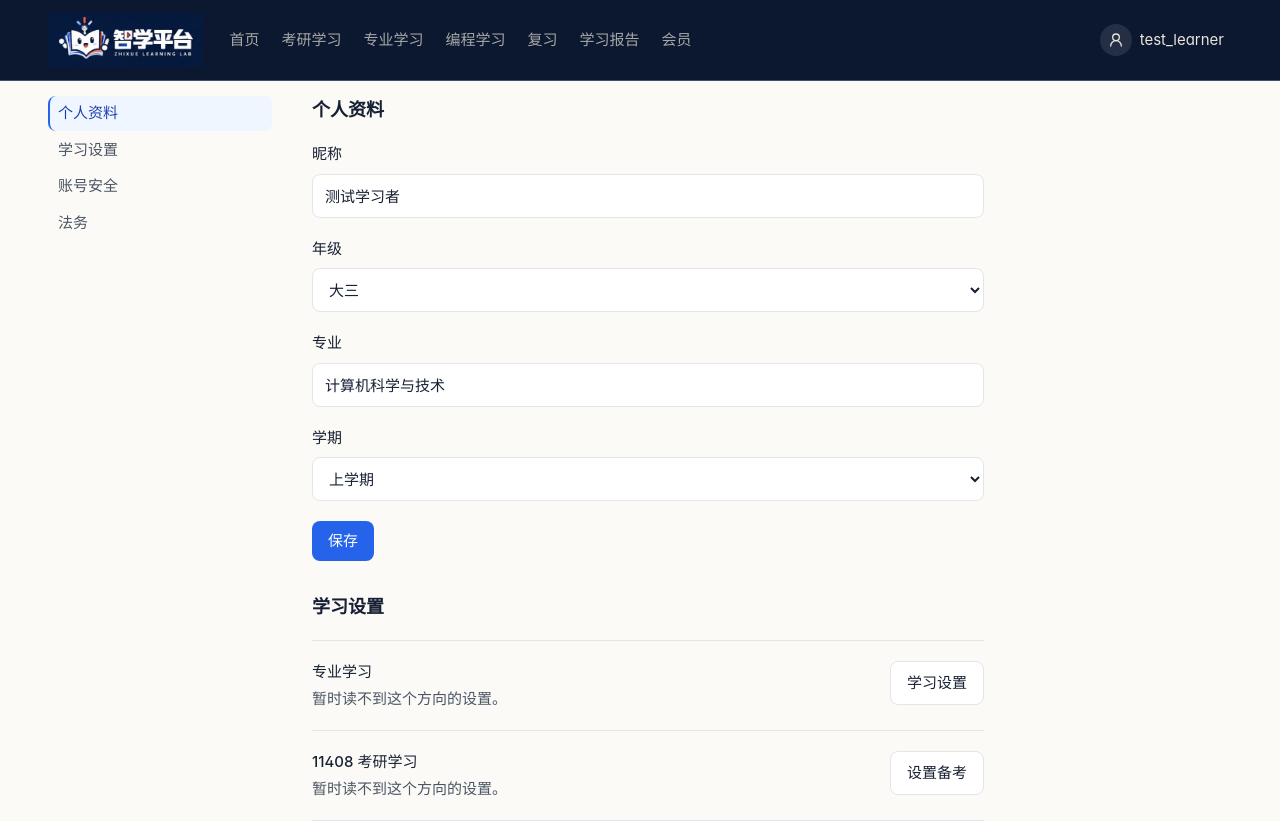
profile section navigation › links the four remaining entries to their real section or existing page
(page scrolled)
Expected: the field showing "测试学习者" is shown, [312, 174, 984, 218]
Expected: the element showing "个人资料 昵称 年级 专业 学期 保存" is shown, [312, 99, 984, 561]
Click the 1st link "学习设置".
click(88, 149)  # box [58, 140, 118, 158]
(page scrolled)
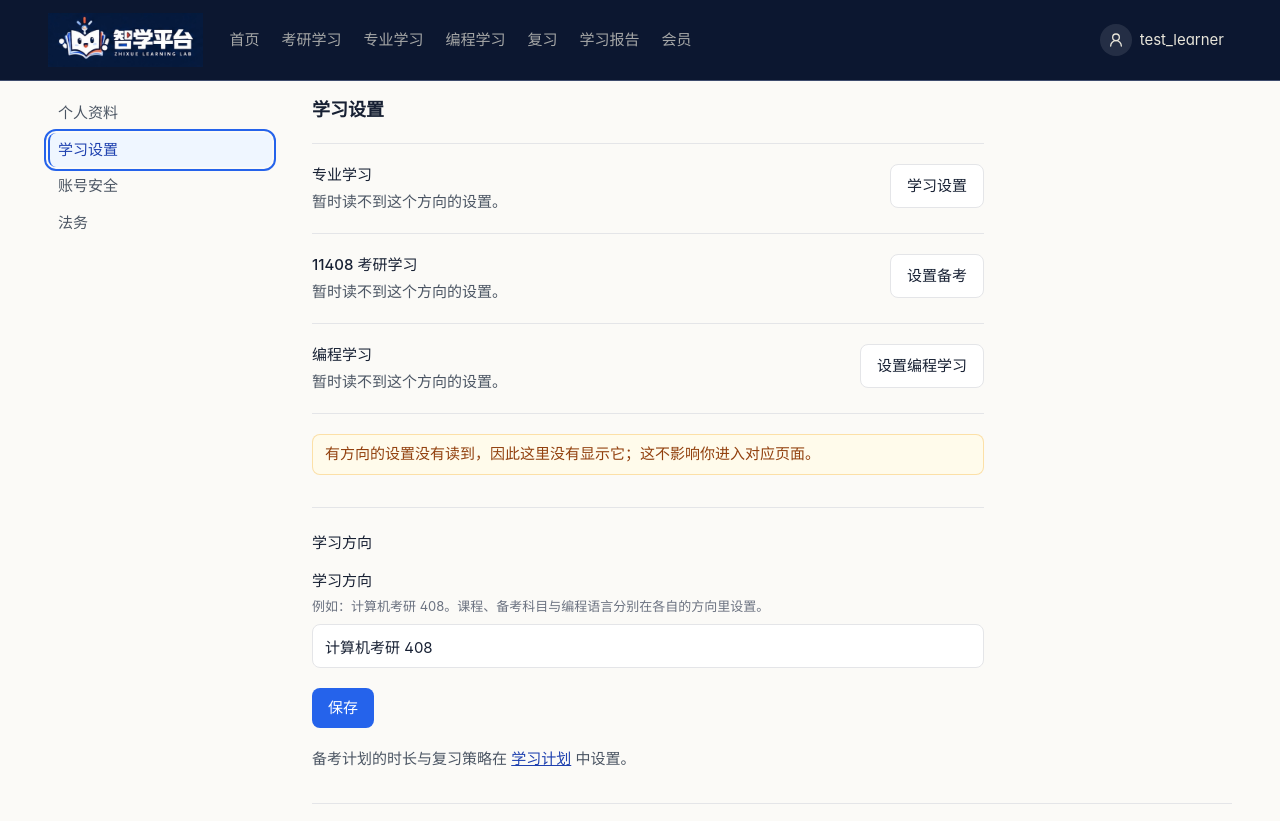
Now the 1st link "学习设置" has attribute aria-current="location", box [48, 132, 272, 167]
Click the link "账号安全".
click(88, 186)  # box [58, 176, 118, 195]
(page scrolled)
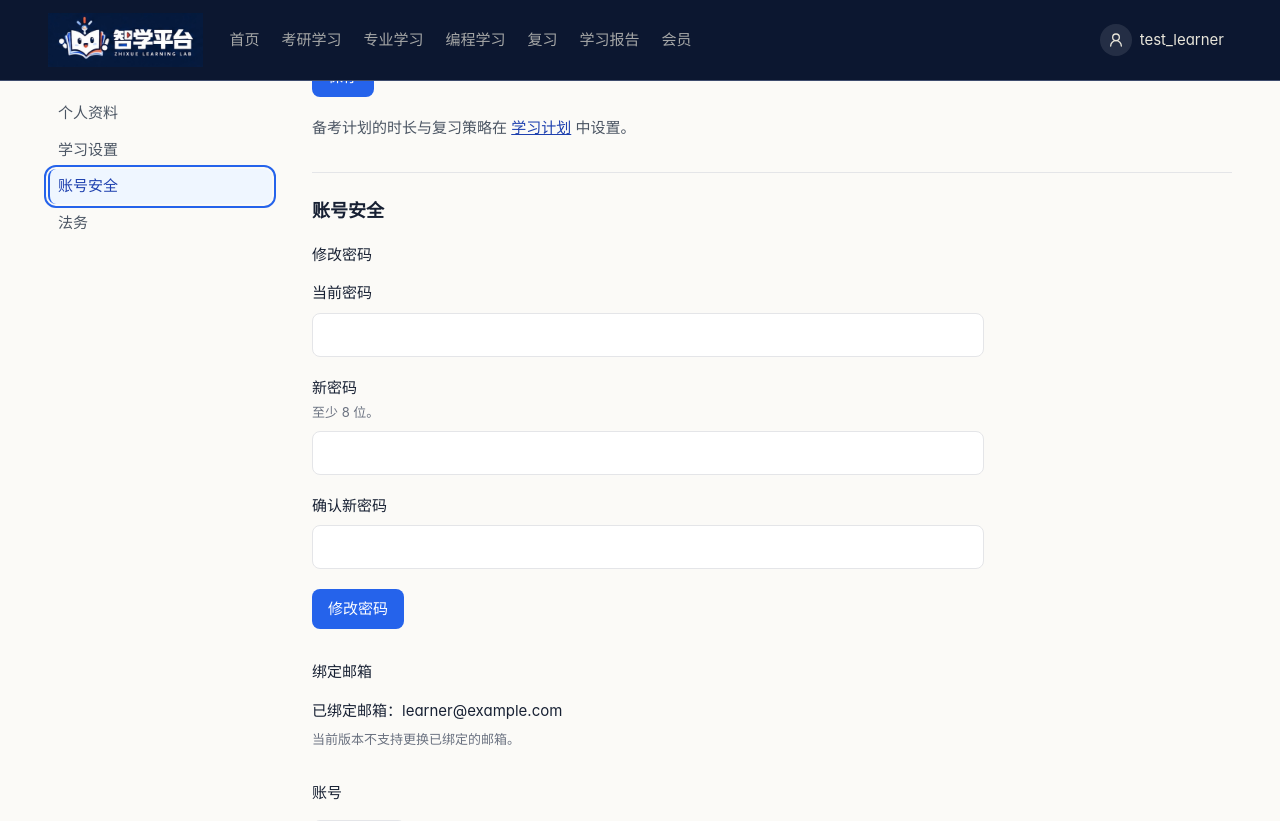
Now the link "账号安全" has attribute aria-current="location", box [48, 169, 272, 204]
Click the link "法务".
click(73, 222)  # box [58, 212, 88, 232]
(page scrolled)
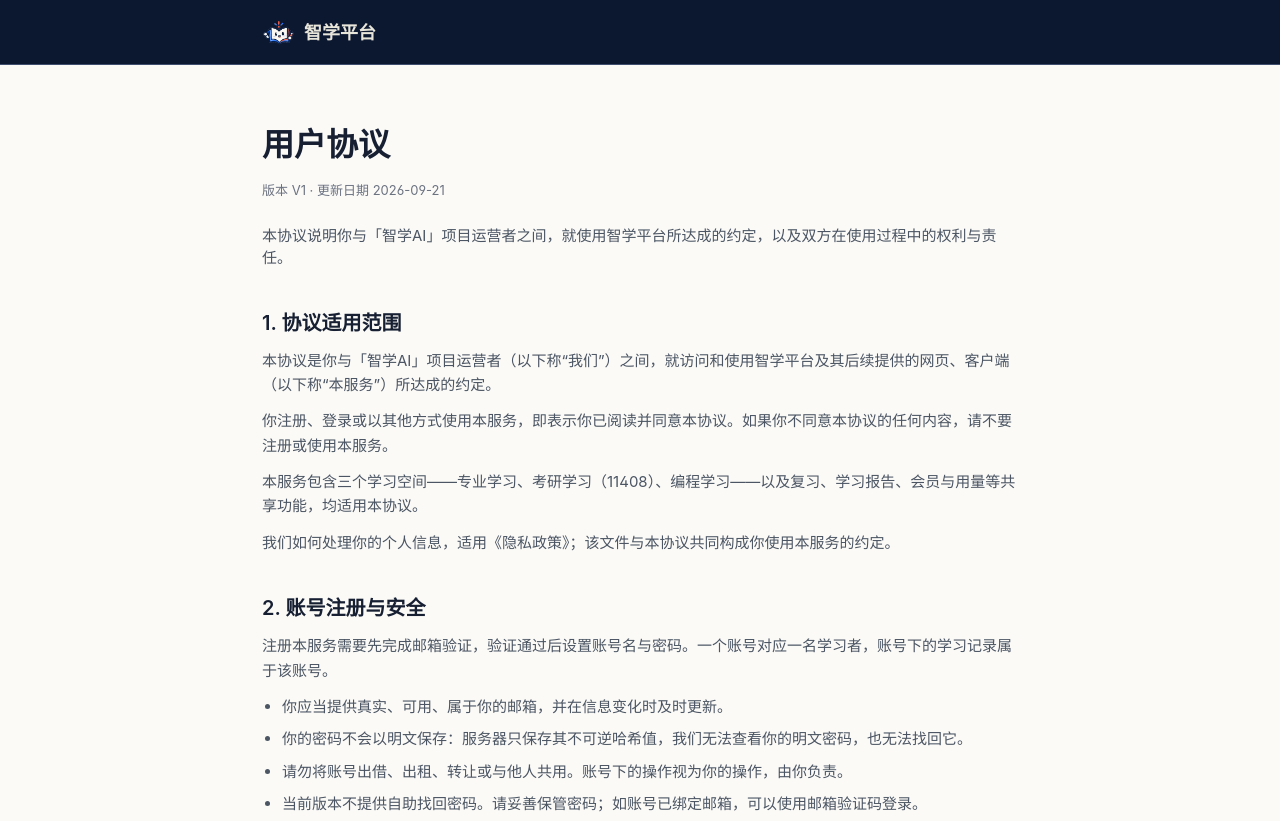
Now the heading "用户协议" is shown, box [262, 125, 390, 164]
